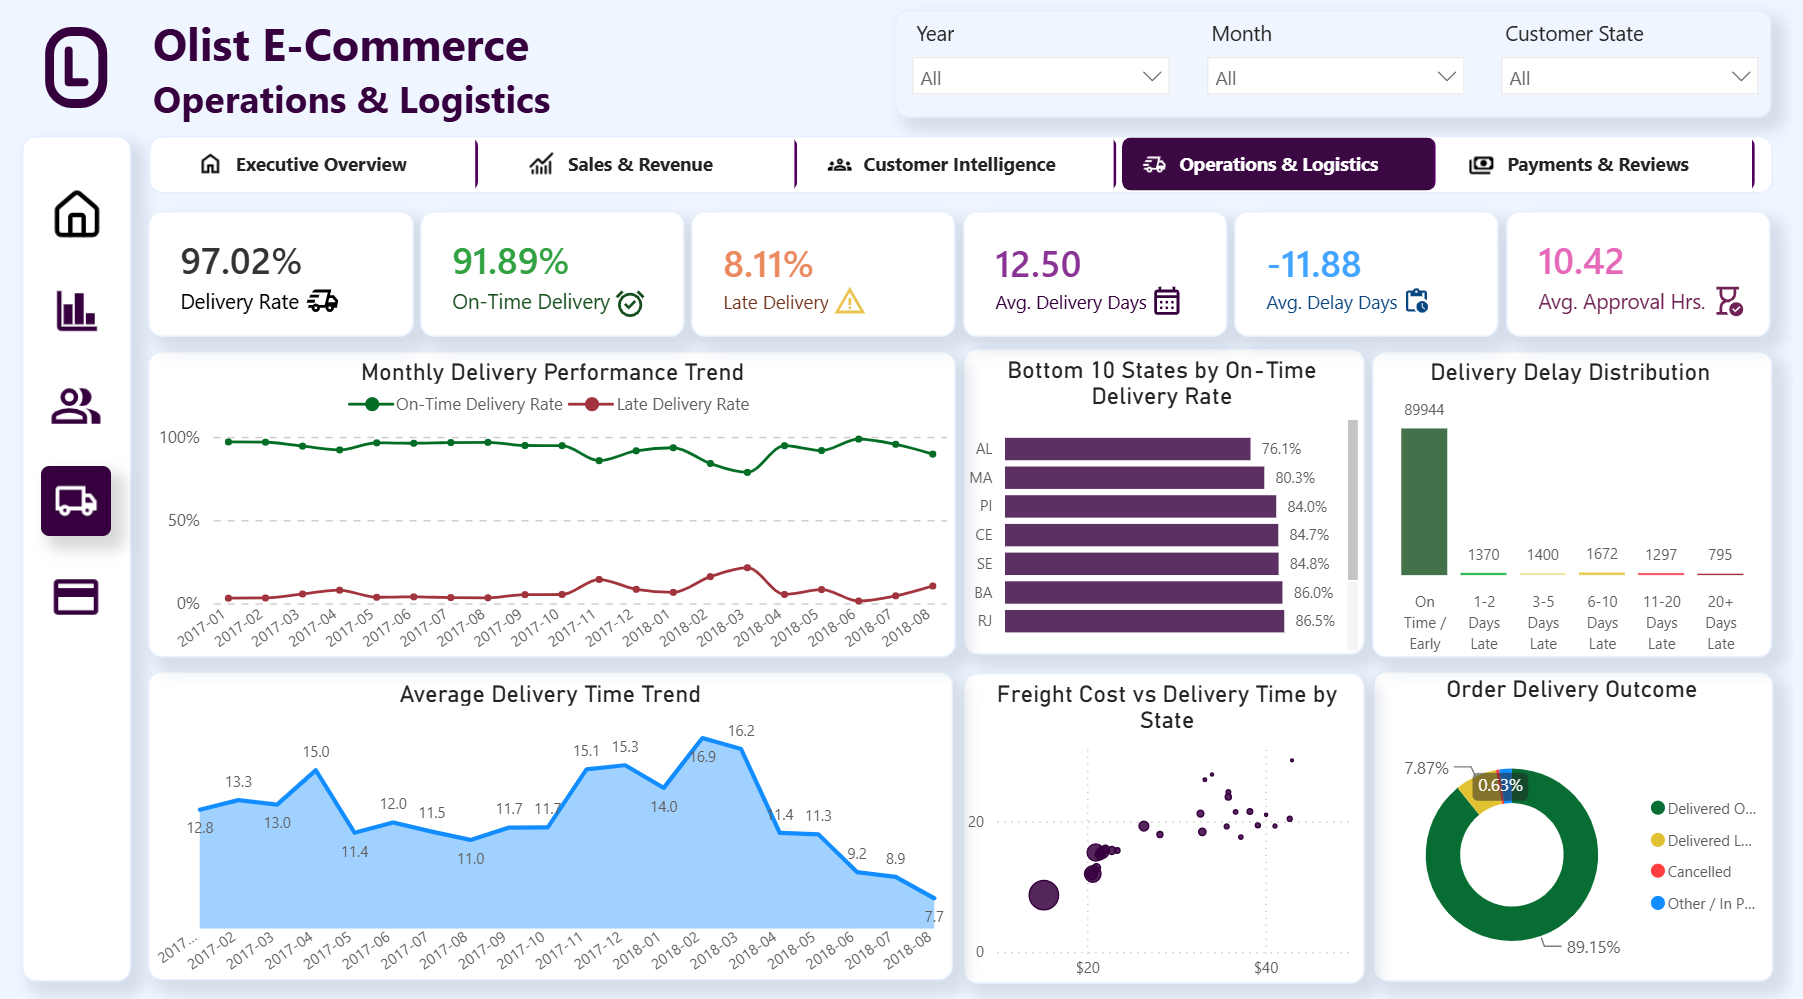

The page's visual inventory and layout, read from the dashboard file:
{"tool":"powerbi","page":{"name":"Operations & Logistics","canvas":[1280,720],"ordinal":3},"visuals":[{"type":"image","box":[15.9,5.9,76.5,85.1],"z":0,"group":"g1"},{"type":"shape","box":[15.3,96.8,77.7,603.7],"z":0},{"type":"image","box":[19.9,11.6,68.4,71.9],"z":1000,"group":"g1"},{"type":"shape","box":[686.9,248.9,287.3,219],"z":1000},{"type":"shape","box":[979.9,479.3,285.9,221.9],"z":2000},{"type":"shape","box":[686.9,480.7,287.3,221.9],"z":3000},{"type":"shape","box":[105.2,479.4,574.7,221.3],"z":4000},{"type":"shape","box":[979.6,251,285.7,219.3],"z":5000},{"type":"shape","box":[105.2,250.7,577.2,218.9],"z":6000},{"type":"shape","box":[638.3,7.3,626.1,77],"z":7000},{"type":"textbox","box":[63.6,3.7,368.1,90.5],"z":8000},{"type":"slicer","fields":{"Values":["dim_date.year"]},"box":[640.8,8.6,204.2,77],"z":9000},{"type":"slicer","fields":{"Values":["dim_date.month_name"]},"box":[851.2,8.6,204,77],"z":10000},{"type":"slicer","fields":{"Values":["dim_customer.Customer State"]},"box":[1061.4,8.6,204.2,77],"z":11000},{"type":"areaChart","title":"Average Delivery Time Trend","fields":{"Category":["dim_date.year_month"],"Y":["_Measures.Average Delivery Days"]},"box":[105.2,481.8,574.7,220.1],"z":12000},{"type":"group","id":"g1","title":"Group 1","box":[15.9,5.9,76.5,85.1],"z":13000},{"type":"group","id":"g2","title":"Group 2","box":[105.2,150.4,1158.7,90.5],"z":14000},{"type":"actionButton","box":[29.3,128.6,50,50],"z":15000},{"type":"actionButton","box":[29.3,196.8,50,50],"z":16000},{"type":"actionButton","box":[317.4,102.3,30.2,30.2],"z":17000},{"type":"cardVisual","fields":{"Data":["_Measures.Delivery Rate"]},"box":[105.2,150.4,189.5,90.5],"z":17000,"group":"g2"},{"type":"cardVisual","fields":{"Data":["_Measures.On-Time Delivery Rate"]},"box":[299.6,150.4,189,90],"z":18000,"group":"g2"},{"type":"actionButton","box":[28.9,265,50,50],"z":18000},{"type":"cardVisual","fields":{"Data":["_Measures.Late Delivery Rate"]},"box":[493.4,150.4,189,90.5],"z":19000,"group":"g2"},{"type":"actionButton","box":[28.9,333.2,50,50],"z":19000},{"type":"cardVisual","fields":{"Data":["_Measures.Average Delivery Days"]},"box":[687.2,150.4,189,90],"z":20000,"group":"g2"},{"type":"actionButton","box":[28.9,401.3,50,50],"z":20000},{"type":"cardVisual","fields":{"Data":["_Measures.Average Delivery Delay Days"]},"box":[881.1,150.4,189,90],"z":21000,"group":"g2"},{"type":"cardVisual","fields":{"Data":["_Measures.Average Approval Hours"]},"box":[1074.9,150.4,189,90],"z":22000,"group":"g2"},{"type":"clusteredColumnChart","title":"Delivery Delay Distribution","fields":{"Category":["Delivery Delay Band.Delay Band"],"Y":["_Measures.Orders by Delay Band"]},"box":[979.5,251.9,286.1,217.7],"z":22000},{"type":"clusteredBarChart","title":"Bottom 10 States by On-Time Delivery Rate","fields":{"Category":["dim_customer.Customer State"],"Y":["_Measures.On-Time Delivery Rate"]},"box":[687.2,250.7,284.2,216.4],"z":23000},{"type":"image","box":[217.7,203,24.5,24.5],"z":24000},{"type":"image","box":[437.8,204.2,23.2,24.5],"z":25000},{"type":"image","box":[594.3,203,24.5,24.5],"z":26000},{"type":"image","box":[1221.6,203,24.5,24.5],"z":27000},{"type":"image","box":[820.5,203,24.2,24.2],"z":28000},{"type":"image","box":[999.8,204.8,21.3,19.9],"z":29000},{"type":"pageNavigator","box":[105.7,96.8,1160.3,40.8],"z":30000},{"type":"lineChart","title":"Monthly Delivery Performance Trend","fields":{"Category":["dim_date.year_month"],"Y":["_Measures.On-Time Delivery Rate","_Measures.Late Delivery Rate"]},"box":[107.6,251.9,572.3,217.7],"z":37000},{"type":"scatterChart","title":"Freight Cost vs Delivery Time by State","fields":{"Category":["dim_customer.Customer State"],"Size":["_Measures.Total Orders"],"X":["_Measures.Average Freight per Item"],"Y":["_Measures.Average Delivery Days"]},"box":[686.9,482.1,288.7,221.9],"z":38000},{"type":"donutChart","title":"Order Delivery Outcome","fields":{"Category":["Delivery Outcome.Outcome"],"Y":["_Measures.Orders by Delivery Outcome"]},"box":[979.9,482.1,284.4,221.9],"z":39000},{"type":"actionButton","box":[370.5,101.5,30.6,30.6],"z":39001},{"type":"actionButton","box":[134.5,101.5,30.6,30.6],"z":39002},{"type":"actionButton","box":[583.3,102.7,30.6,29.3],"z":39003},{"type":"actionButton","box":[809.5,102.7,29.3,29.3],"z":39004},{"type":"actionButton","box":[1041.9,102.7,30.6,30.6],"z":39005}]}

Visuals, with their boxes on the page's 1280x720 design canvas (x1, y1, x2, y2). These are canvas units, not pixel positions in the 1803x999 screenshot, which may show the page scaled, cropped or inside an application window:
image: crop(16, 6, 92, 91)
shape: crop(15, 97, 93, 700)
image: crop(20, 12, 88, 84)
shape: crop(687, 249, 974, 468)
shape: crop(980, 479, 1266, 701)
shape: crop(687, 481, 974, 703)
shape: crop(105, 479, 680, 701)
shape: crop(980, 251, 1265, 470)
shape: crop(105, 251, 682, 470)
shape: crop(638, 7, 1264, 84)
textbox: crop(64, 4, 432, 94)
slicer - dim_date.year: crop(641, 9, 845, 86)
slicer - dim_date.month_name: crop(851, 9, 1055, 86)
slicer - dim_customer.Customer State: crop(1061, 9, 1266, 86)
"Average Delivery Time Trend" areaChart: crop(105, 482, 680, 702)
"Group 1" group: crop(16, 6, 92, 91)
"Group 2" group: crop(105, 150, 1264, 241)
actionButton: crop(29, 129, 79, 179)
actionButton: crop(29, 197, 79, 247)
actionButton: crop(317, 102, 348, 132)
cardVisual - _Measures.Delivery Rate: crop(105, 150, 295, 241)
cardVisual - _Measures.On-Time Delivery Rate: crop(300, 150, 489, 240)
actionButton: crop(29, 265, 79, 315)
cardVisual - _Measures.Late Delivery Rate: crop(493, 150, 682, 241)
actionButton: crop(29, 333, 79, 383)
cardVisual - _Measures.Average Delivery Days: crop(687, 150, 876, 240)
actionButton: crop(29, 401, 79, 451)
cardVisual - _Measures.Average Delivery Delay Days: crop(881, 150, 1070, 240)
cardVisual - _Measures.Average Approval Hours: crop(1075, 150, 1264, 240)
"Delivery Delay Distribution" clusteredColumnChart: crop(980, 252, 1266, 470)
"Bottom 10 States by On-Time Delivery Rate" clusteredBarChart: crop(687, 251, 971, 467)
image: crop(218, 203, 242, 228)
image: crop(438, 204, 461, 229)
image: crop(594, 203, 619, 228)
image: crop(1222, 203, 1246, 228)
image: crop(820, 203, 845, 227)
image: crop(1000, 205, 1021, 225)
pageNavigator: crop(106, 97, 1266, 138)
"Monthly Delivery Performance Trend" lineChart: crop(108, 252, 680, 470)
"Freight Cost vs Delivery Time by State" scatterChart: crop(687, 482, 976, 704)
"Order Delivery Outcome" donutChart: crop(980, 482, 1264, 704)
actionButton: crop(370, 102, 401, 132)
actionButton: crop(134, 102, 165, 132)
actionButton: crop(583, 103, 614, 132)
actionButton: crop(810, 103, 839, 132)
actionButton: crop(1042, 103, 1072, 133)
